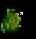pot: (0, 1, 36, 39)
